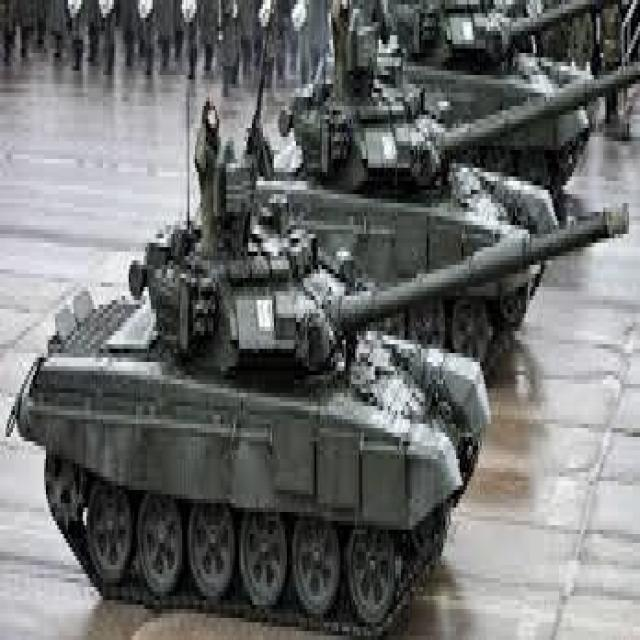MIL_MBT: (17, 190, 495, 636), (283, 11, 561, 333), (406, 9, 606, 199)
